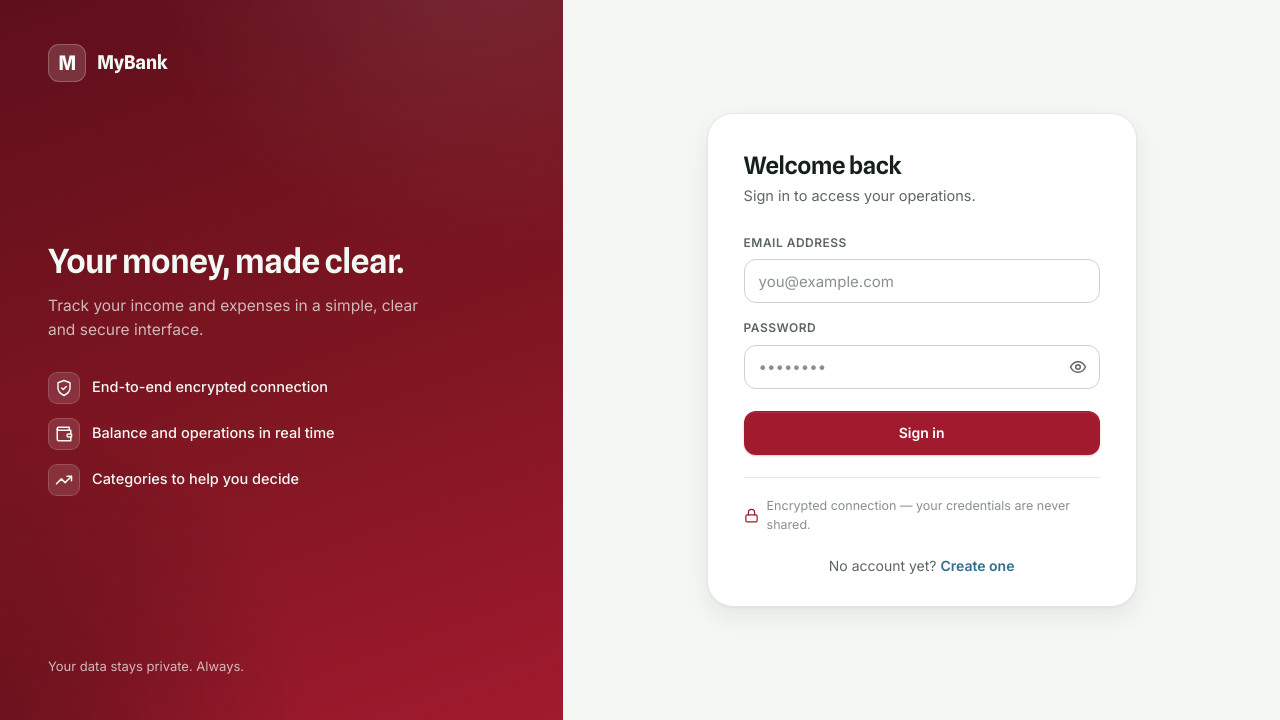
Test: Login page › shows error on invalid credentials
Type "wrong@example.com" into the field labelled "Email address".
click(922, 281); type("wrong@example.com")  # box [744,259,1100,303]
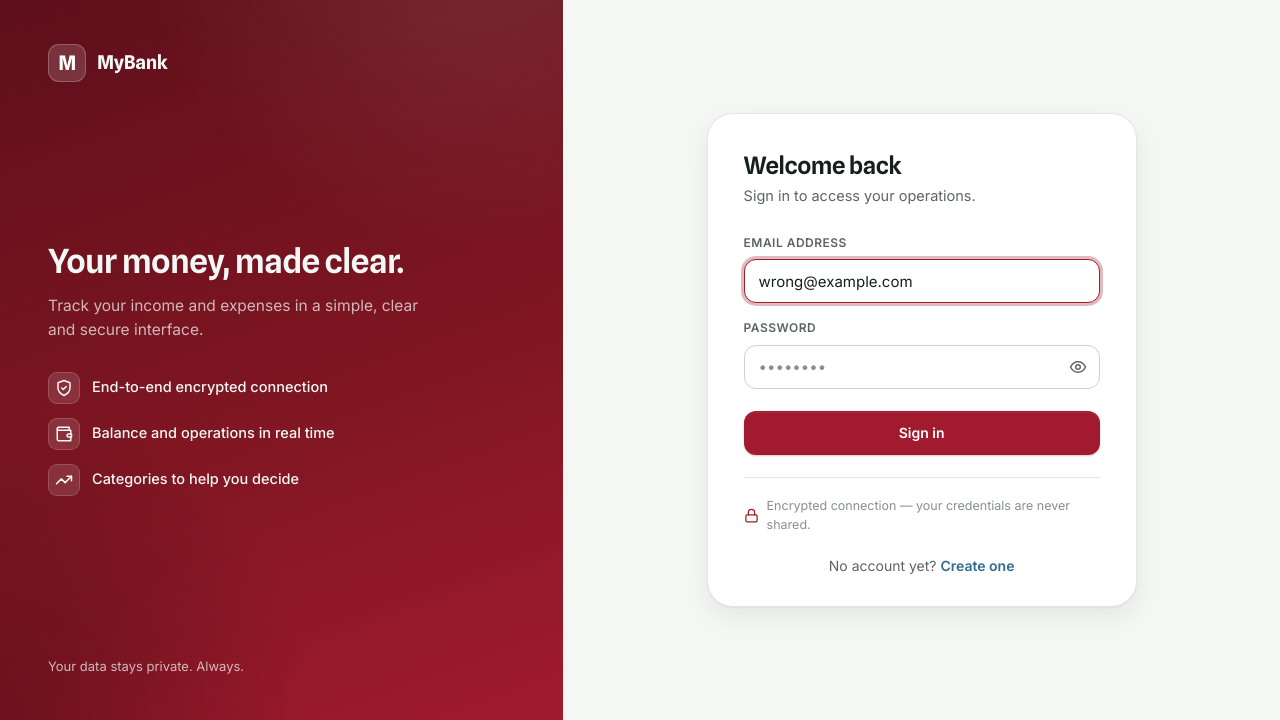
Type "wrongpass" into the password field labelled "Password".
click(922, 367); type("wrongpass")  # box [744,345,1100,389]
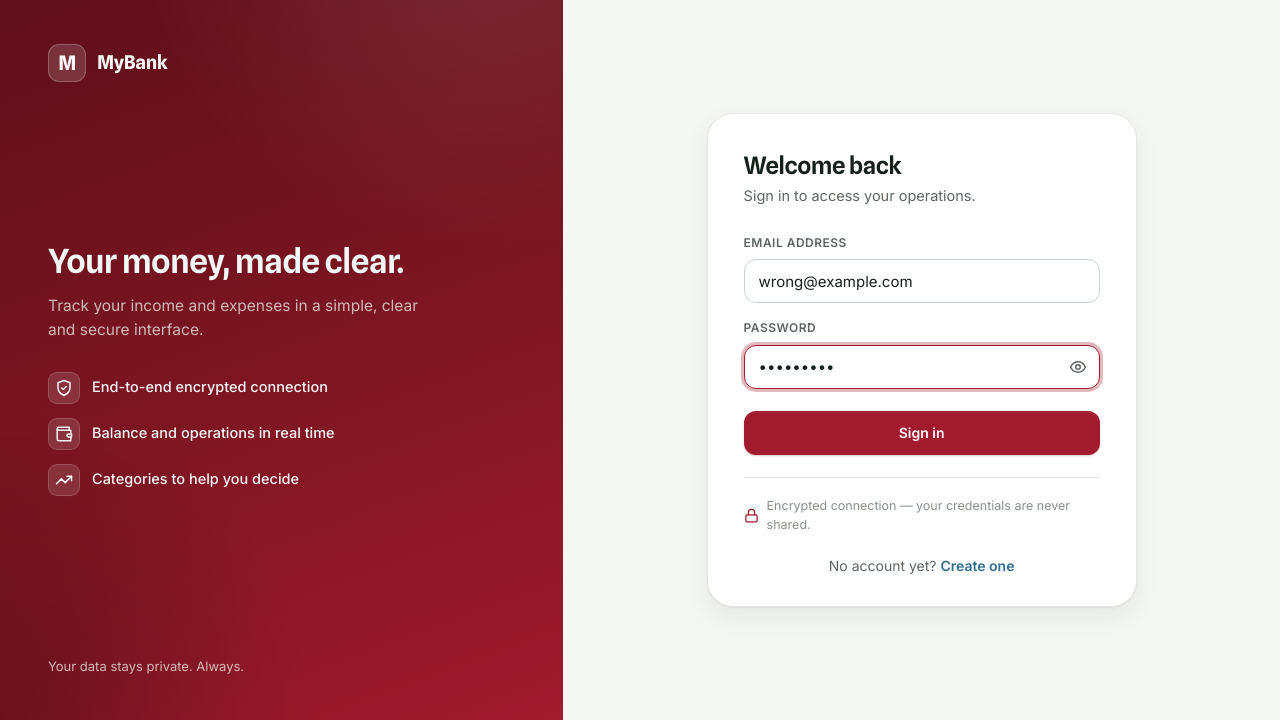
Click the button "Sign in".
click(922, 433)  # box [744,411,1100,455]
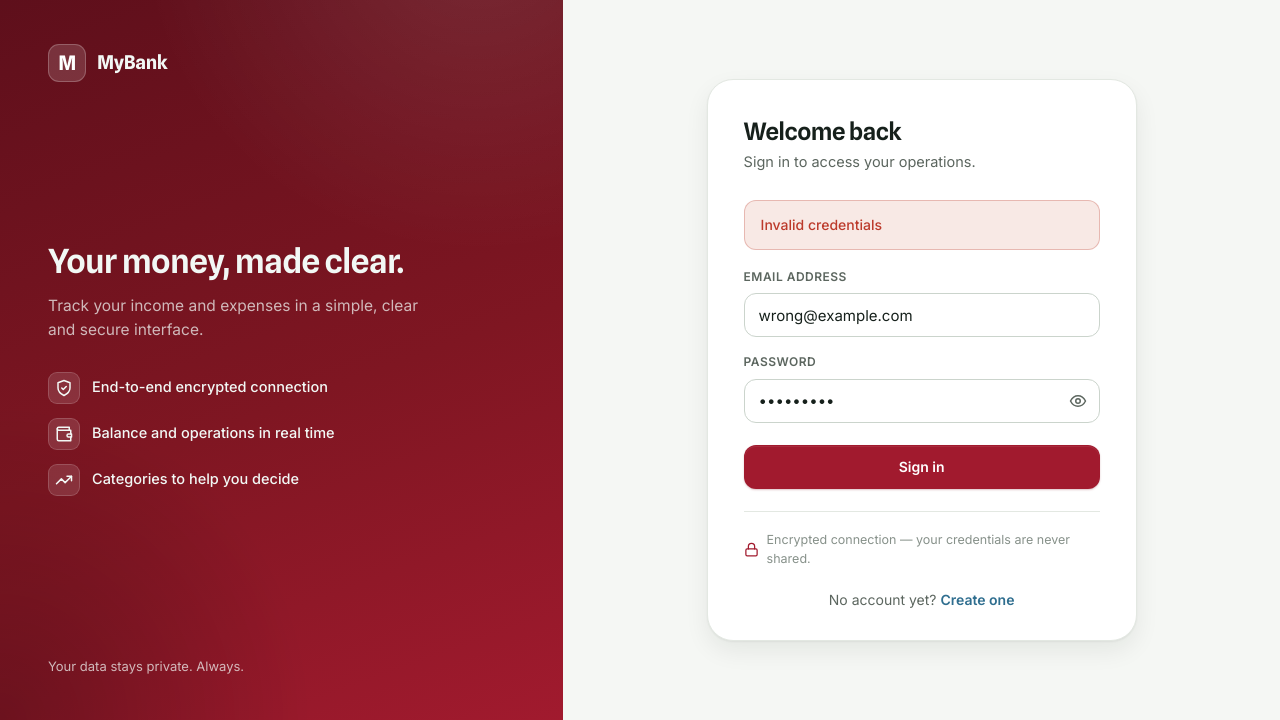
Expected: the message reads "Invalid credentials", [761,216,882,233]
